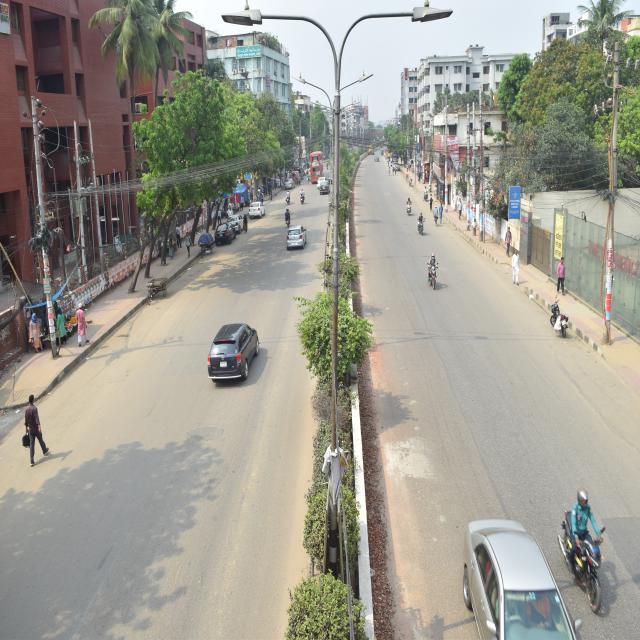bus: (308, 148, 326, 184)
car: (444, 509, 586, 640), (205, 299, 264, 396), (284, 222, 308, 254), (225, 212, 247, 242), (216, 219, 237, 243), (249, 199, 266, 224), (317, 173, 333, 198)
motorbike: (559, 502, 608, 622), (547, 296, 571, 348), (423, 254, 442, 294), (282, 188, 296, 208), (402, 198, 414, 217), (417, 216, 428, 236), (281, 208, 292, 226), (298, 189, 308, 206)
